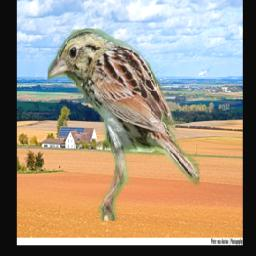Sparrow: (48, 29, 200, 222)
